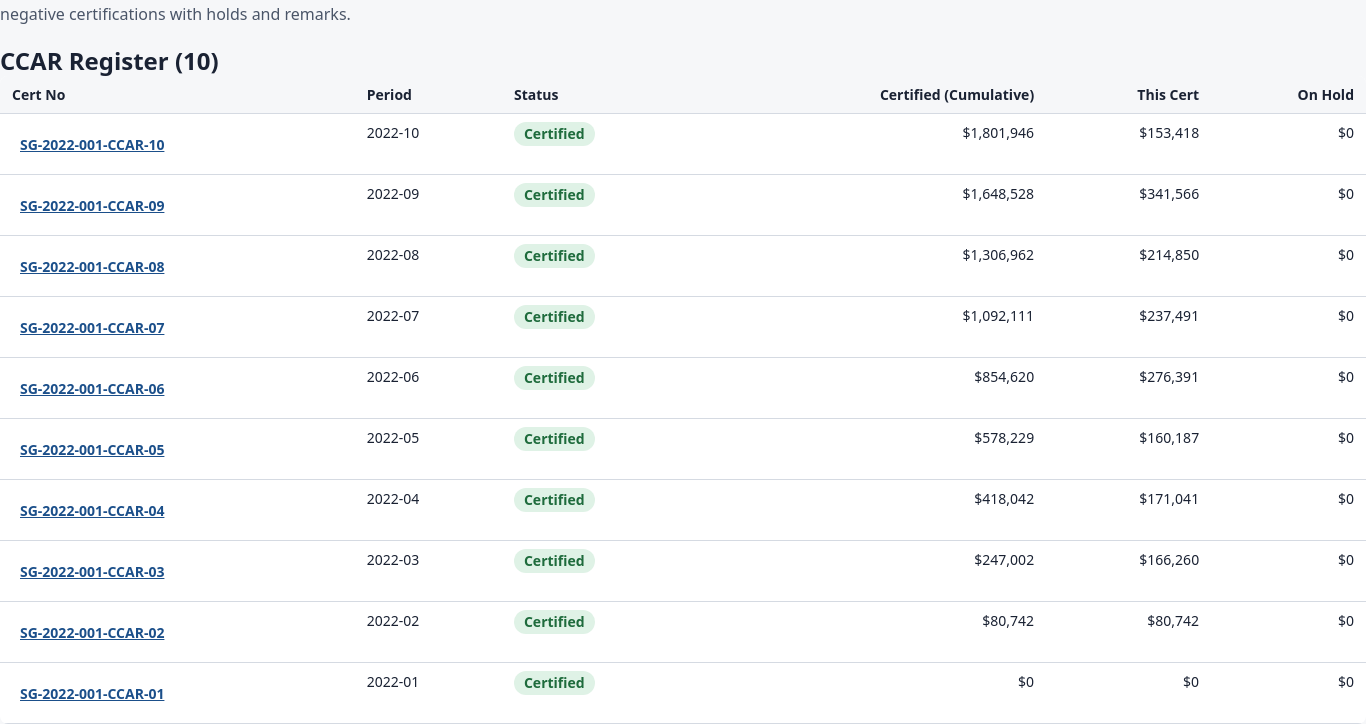
Test: CertificationView (TASK-008) › opens a certificate and shows submitted vs certified comparison
(page scrolled)
Click the button "SG-2022-001-CCAR-01": click(92, 693) [12,671,172,715]
(page scrolled)
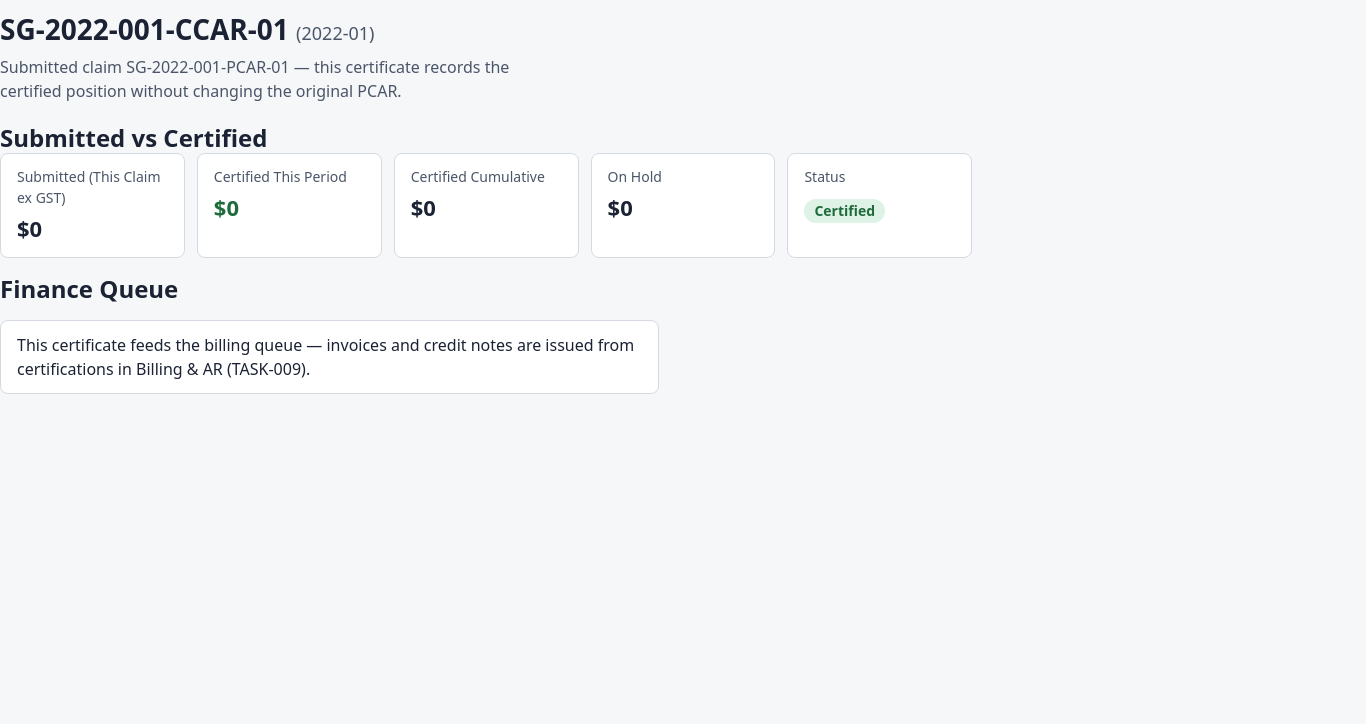
Expected: the heading "Submitted vs Certified" is shown, [0,121,267,154]
Expected: the text "Submitted (This Claim ex GST)" is shown, [17,166,168,208]
Expected: the text "Certified This Period" is shown, [214,166,365,187]
